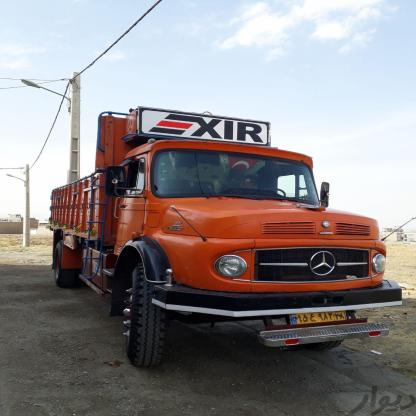Truck: (58, 110, 396, 370)
